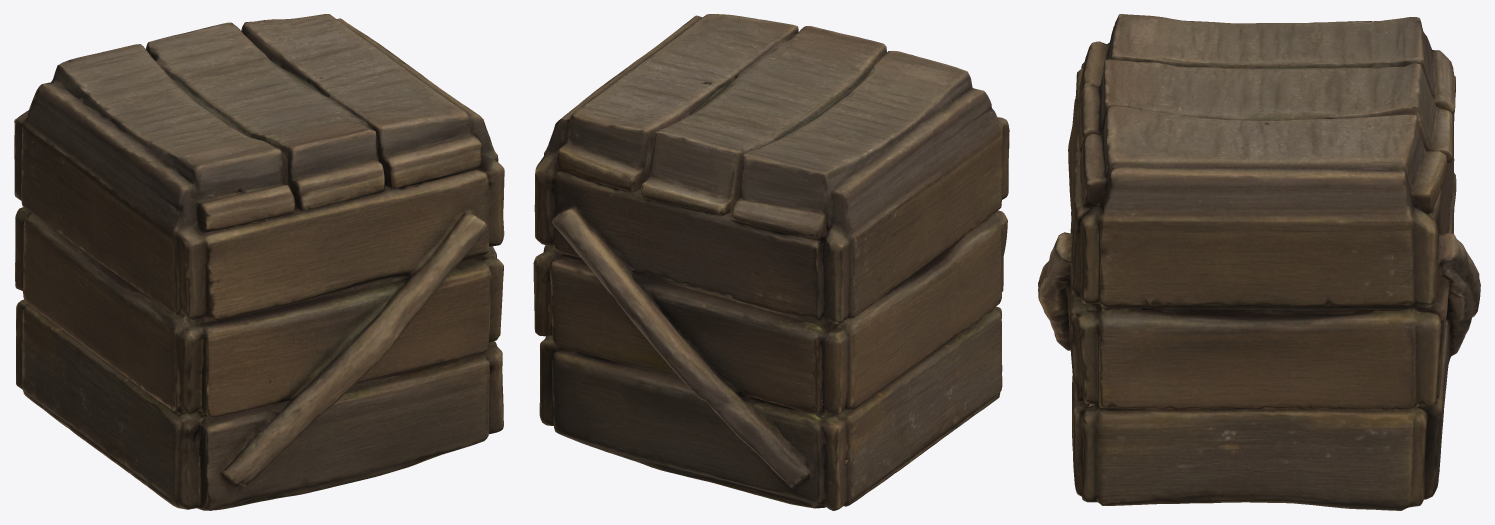
The model's file is kit_crate.glb.
3 views of the same model, side by side, from view 1: azimuth 30°, elevation 25°; view 2: azimuth 150°, elevation 25°; view 3: azimuth 270°, elevation 25° (orthographic). The views are drawn at different scales.
Parts seen in each view (by area): view 1: kit_crate_s7_fit; view 2: kit_crate_s7_fit; view 3: kit_crate_s7_fit.
Part boxes in pixels (x1,y1,x2,y2): kit_crate_s7_fit: [14, 14, 504, 510]; kit_crate_s7_fit: [533, 14, 1009, 510]; kit_crate_s7_fit: [1038, 14, 1480, 510].
Size of the model in its own units: 0.4662 by 0.464 by 0.5197.
Materials: 1 (1 with a texture image).
